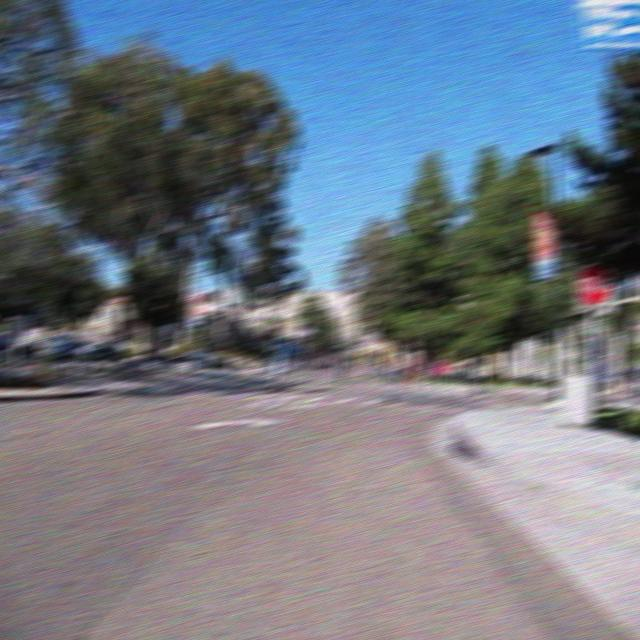stop: (574, 262, 612, 306)
